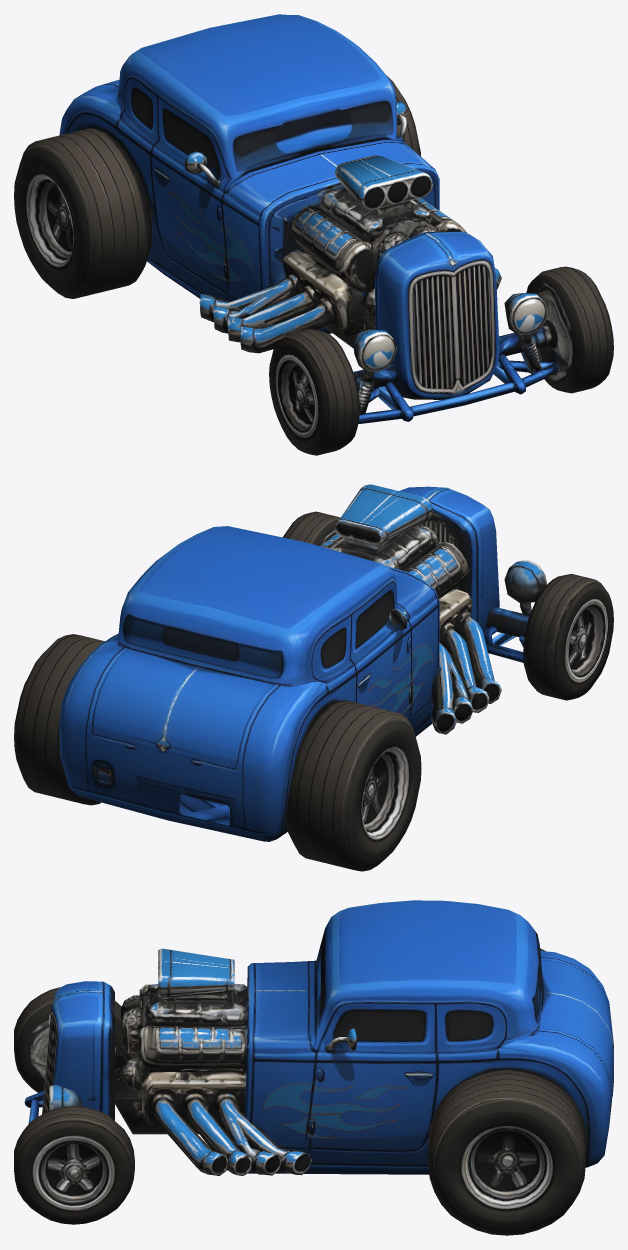
The model's file is donnerbuechse.glb.
3 renders of one model, top to bottom at view 1: azimuth 30°, elevation 25°; view 2: azimuth 150°, elevation 25°; view 3: azimuth 270°, elevation 25°, orthographic. The views are drawn at different scales.
Visible parts, largest first — view 1: BodyPaint, StockWheel_RL, StockEngine, StockWheel_FL, StockWheel_FR, StockWheel_RR; view 2: BodyPaint, StockWheel_RL, StockEngine, StockWheel_FL, StockWheel_RR, StockWheel_FR; view 3: BodyPaint, StockEngine, StockWheel_RR, StockWheel_FR, StockWheel_FL.
Part boxes in pixels (box(x1,y1,x2,y2)): BodyPaint: box(27, 14, 590, 445); StockWheel_RL: box(14, 127, 147, 298); StockEngine: box(167, 155, 501, 394); StockWheel_FL: box(269, 329, 359, 455); StockWheel_FR: box(530, 266, 613, 393); StockWheel_RR: box(386, 75, 420, 156); BodyPaint: box(18, 484, 604, 869); StockWheel_RL: box(288, 700, 421, 871); StockEngine: box(283, 484, 574, 736); StockWheel_FL: box(523, 574, 613, 700); StockWheel_RR: box(14, 634, 104, 803); StockWheel_FR: box(282, 511, 340, 545); BodyPaint: box(14, 900, 613, 1208); StockEngine: box(67, 948, 402, 1200); StockWheel_RR: box(428, 1068, 585, 1235); StockWheel_FR: box(14, 1106, 134, 1224); StockWheel_FL: box(14, 987, 122, 1091).
Bounding box in the file's own units: 2.39 × 1.55 × 3.8.
6 materials, 6 textured.
